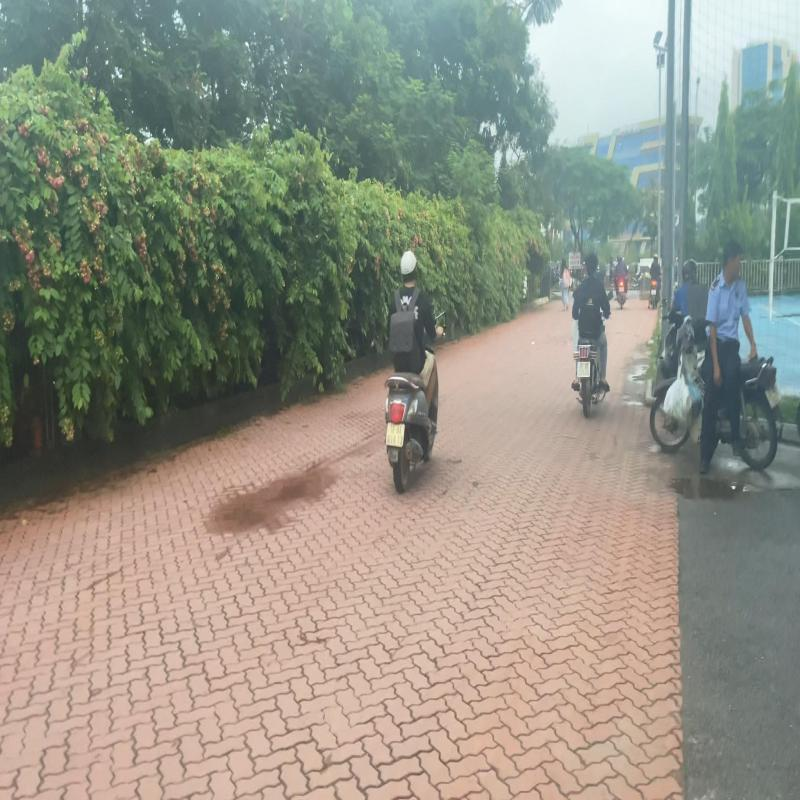motorcyclist: (571, 252, 613, 418)
nohelmet: (586, 252, 598, 277), (576, 360, 590, 378)
